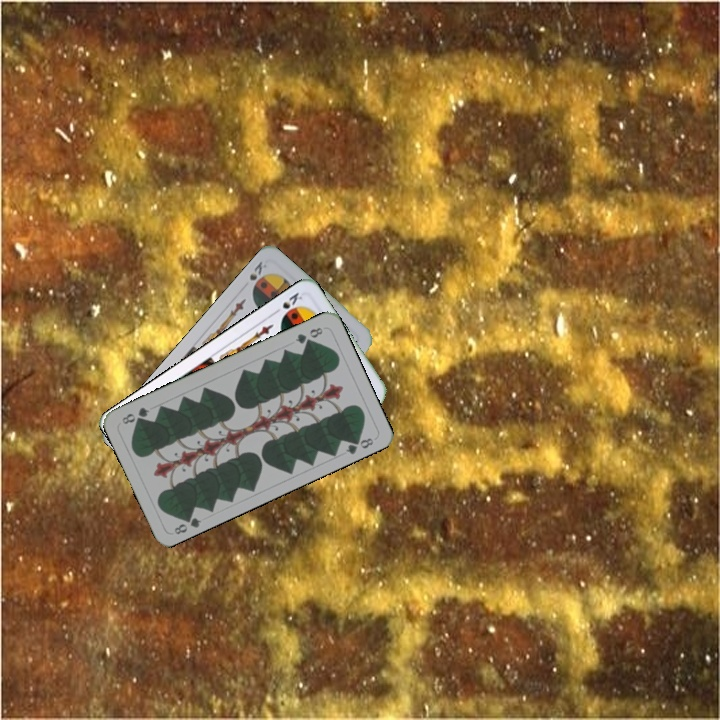G8: (170, 510, 204, 537), (291, 323, 325, 347)
SK: (269, 288, 305, 317), (245, 257, 269, 283)
